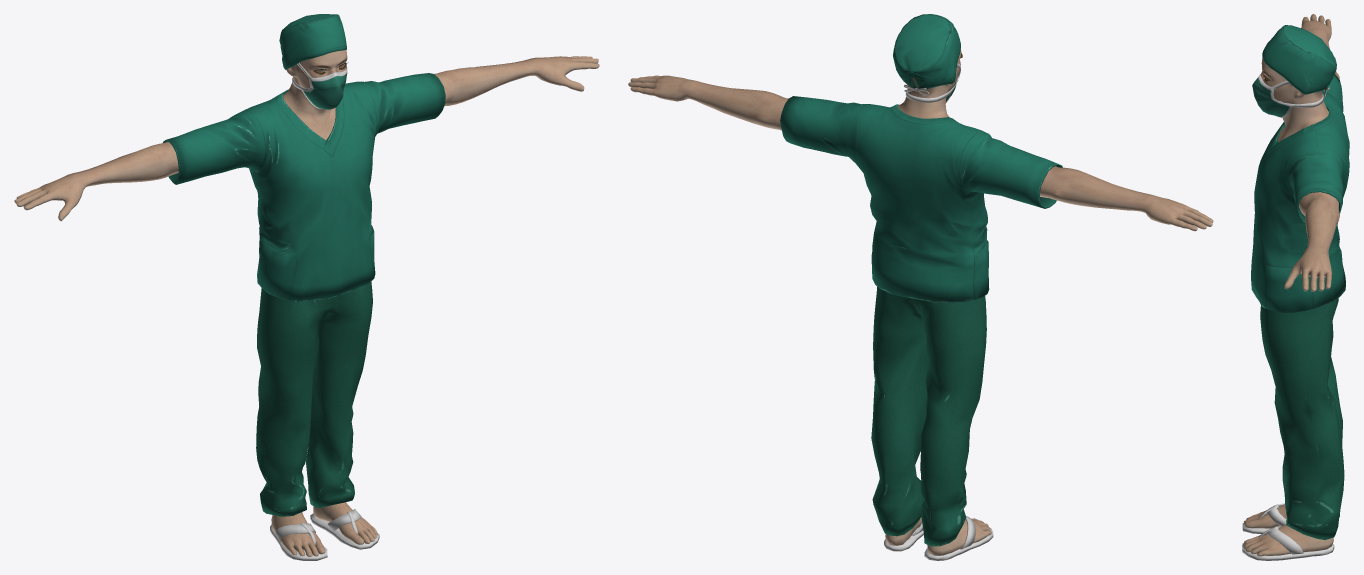
File: Doctor.obj
The picture shows the model from 3 angles, left to right: view 1: azimuth 30°, elevation 25°; view 2: azimuth 150°, elevation 25°; view 3: azimuth 270°, elevation 25°; orthographic projection. The views are drawn at different scales.
Parts seen in each view (by area): view 1: Doctor:Eyelashes1; view 2: Doctor:Eyelashes1; view 3: Doctor:Eyelashes1.
Boxes of the visible parts, x1=… form: Doctor:Eyelashes1: x1=14, y1=14, x2=599, y2=560; Doctor:Eyelashes1: x1=628, y1=14, x2=1213, y2=560; Doctor:Eyelashes1: x1=1242, y1=14, x2=1349, y2=560.
Bounding box in the file's own units: 212 × 182 × 34.71.
